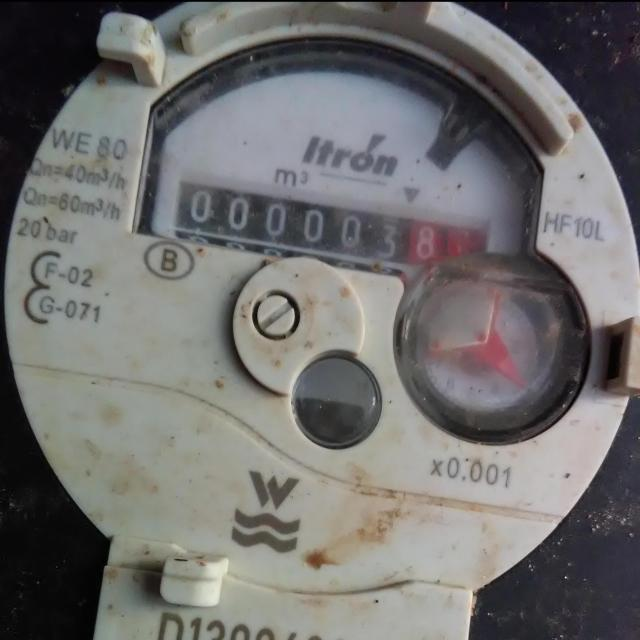gaz_meter: (7, 0, 640, 597)
indication: (165, 167, 490, 292)
